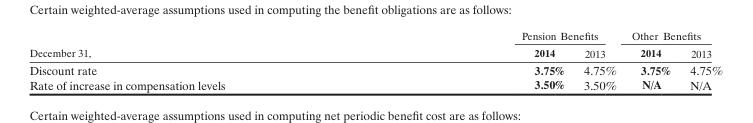table: (28, 28, 722, 91)
table column: (28, 28, 372, 91), (372, 28, 573, 91), (623, 28, 679, 91), (573, 28, 623, 91), (679, 28, 722, 91)
table column header: (28, 28, 722, 60)
table row: (28, 43, 722, 60), (28, 60, 722, 77), (28, 28, 722, 43), (28, 77, 722, 91)
table spanning cell: (28, 28, 372, 60), (372, 28, 623, 43), (623, 28, 722, 43)
